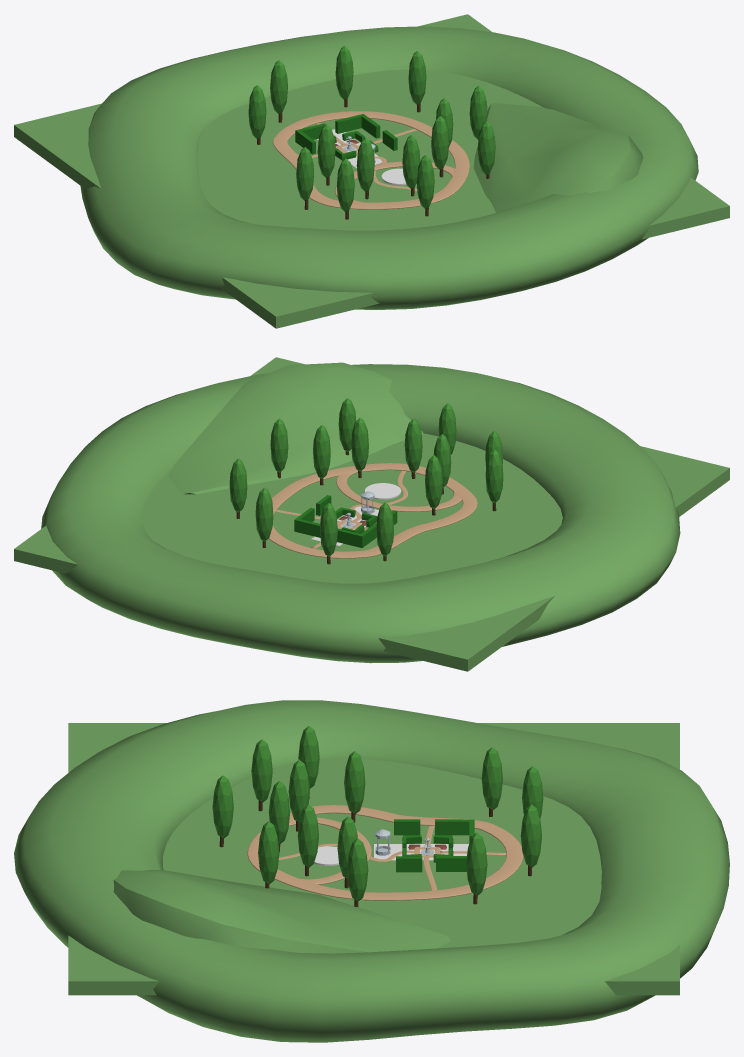
Rendered from Birds.fbx.
The picture shows the model from 3 angles, top to bottom: view 1: azimuth 30°, elevation 25°; view 2: azimuth 150°, elevation 25°; view 3: azimuth 270°, elevation 25°; orthographic projection. The views are drawn at different scales.
Parts seen in each view (by area): view 1: Torus.001, Floor, Icosphere, BezierCurve, Tree, Tree.010, Tree.001, Tree.012, Tree.003, Tree.004, Tree.007, Tree.009 (+7 smaller); view 2: Torus.001, Floor, Icosphere, BezierCurve, BezierCircle, Tree.001, Tree, Tree.003, Tree.011, Tree.004, Tree.010, Tree.012 (+8 smaller); view 3: Torus.001, Floor, Icosphere, BezierCurve, Tree.008, Tree.004, Tree.007, Tree.012, Tree.003, Tree.010, Tree.002, Tree.005 (+10 smaller).
Boxes of the visible parts, x1,y1,x2,y2 form: Torus.001: (80,26,698,309); Floor: (14,14,729,328); Icosphere: (473,103,643,212); BezierCurve: (272,111,469,209); Tree: (270,60,287,122); Tree.010: (431,116,448,177); Tree.001: (296,147,313,209); Tree.012: (317,124,335,185); Tree.003: (335,46,353,107); Tree.004: (408,51,426,112); Tree.007: (416,155,434,216); Tree.009: (356,138,374,199); Torus.001: (41,364,680,663); Floor: (14,357,729,671); Icosphere: (168,362,423,494); BezierCurve: (268,463,477,558); BezierCircle: (336,472,461,511); Tree.001: (485,449,503,511); Tree: (320,503,337,564); Tree.003: (255,487,273,547); Tree.011: (404,418,422,478); Tree.004: (229,458,247,518); Tree.010: (351,417,368,478); Tree.012: (425,455,442,515); Torus.001: (14,700,729,1042); Floor: (68,723,679,995); Icosphere: (113,869,450,953); BezierCurve: (247,805,523,900); Tree.008: (251,739,272,811); Tree.004: (466,832,487,904); Tree.007: (212,775,233,847); Tree.012: (344,751,365,822); Tree.003: (520,804,541,876); Tree.010: (297,804,318,876); Tree.002: (481,747,502,816); Tree.005: (347,838,368,906).
Size of the model in its own units: 9501 by 1790 by 9241.
